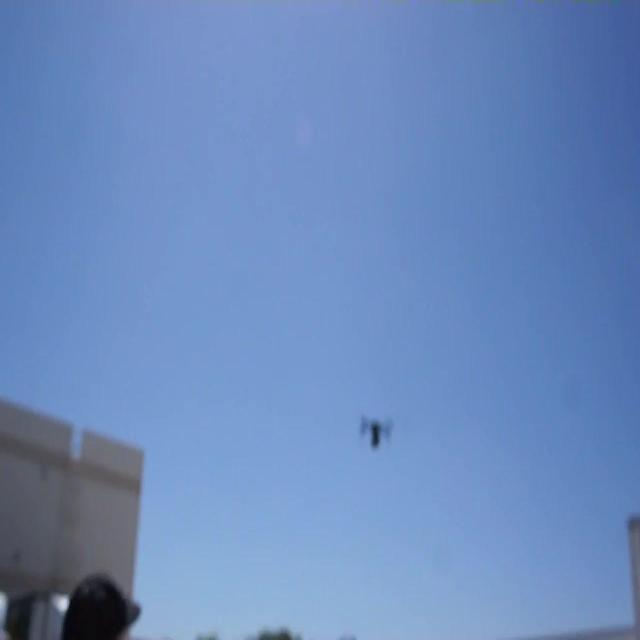drone: (359, 413, 392, 453)
